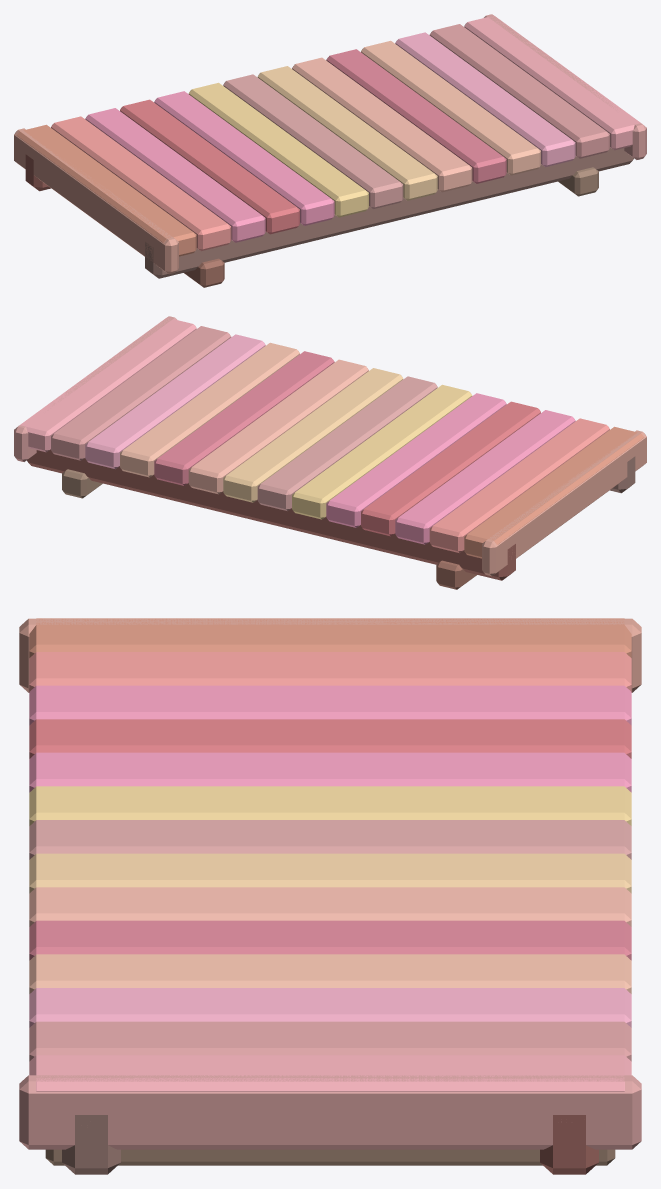
File: WC_RIVER_Bridge_Deck_A.glb
3 renders of one model, top to bottom at view 1: azimuth 30°, elevation 25°; view 2: azimuth 150°, elevation 25°; view 3: azimuth 270°, elevation 25°, orthographic. The views are drawn at different scales.
Visible parts, largest first — view 1: WC_RIVER_Bridge_Deck_A_RenderMesh; view 2: WC_RIVER_Bridge_Deck_A_RenderMesh; view 3: WC_RIVER_Bridge_Deck_A_RenderMesh.
Boxes of the visible parts, box(x1,y1,x2,y2) form: WC_RIVER_Bridge_Deck_A_RenderMesh: box(14, 14, 646, 287); WC_RIVER_Bridge_Deck_A_RenderMesh: box(14, 316, 646, 589); WC_RIVER_Bridge_Deck_A_RenderMesh: box(19, 618, 641, 1174).
Bounding box in the file's own units: 3.4 × 0.42 × 1.9.
